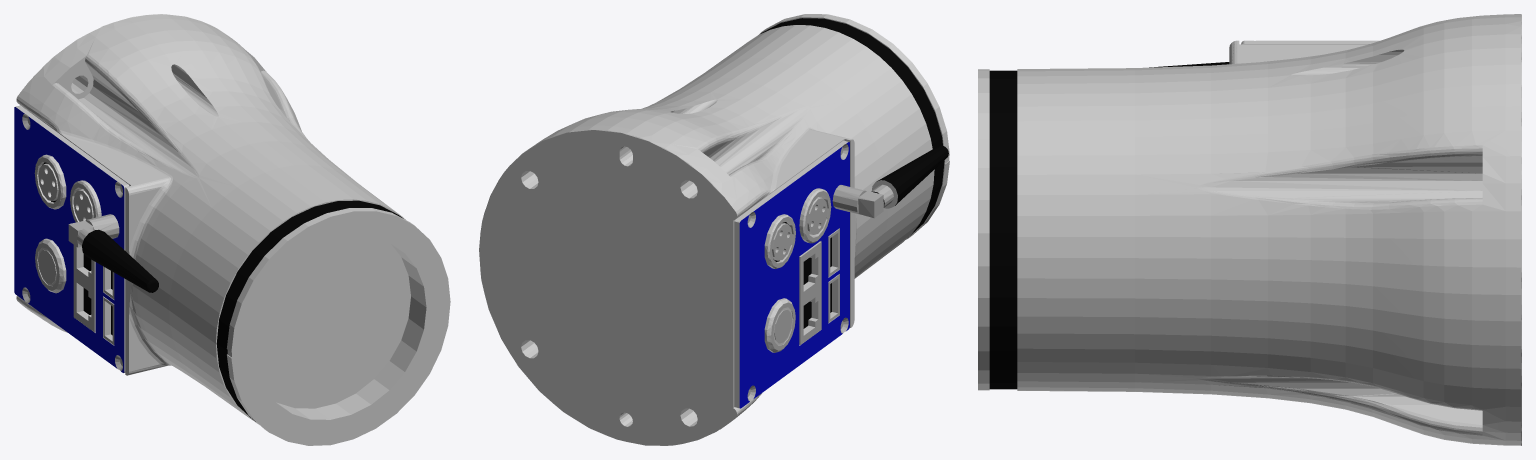
The picture shows the model from 3 angles, left to right: view 1: azimuth 30°, elevation 25°; view 2: azimuth 150°, elevation 25°; view 3: azimuth 270°, elevation 25°; orthographic projection. The views are drawn at different scales.
Parts seen in each view (by area): view 1: base_link; view 2: base_link; view 3: base_link.
Part boxes in pixels (bbox=[...]): base_link: bbox=[14, 14, 450, 445]; base_link: bbox=[479, 14, 949, 445]; base_link: bbox=[978, 14, 1521, 445].
Size of the model in its own units: 0.1143 by 0.11 by 0.1385.
